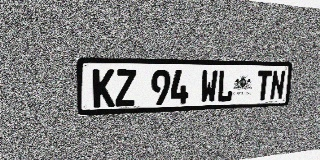4: (170, 70, 189, 104)
9: (151, 69, 171, 105)
K: (93, 69, 115, 108)
L: (216, 70, 234, 102)
N: (269, 70, 286, 100)
T: (255, 70, 272, 101)
W: (200, 70, 218, 103)
Z: (115, 69, 136, 107)
